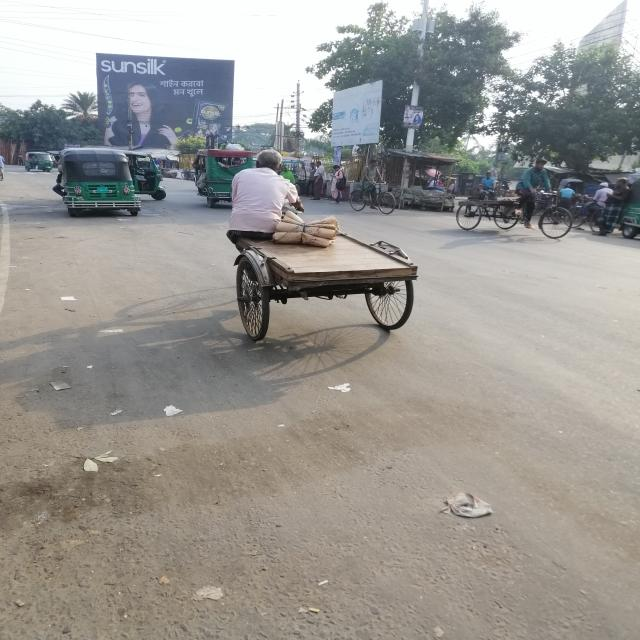CNG: (36, 138, 178, 239), (118, 160, 178, 209)
Easybike: (177, 141, 265, 225)
Van: (196, 202, 462, 365), (429, 174, 598, 264)
